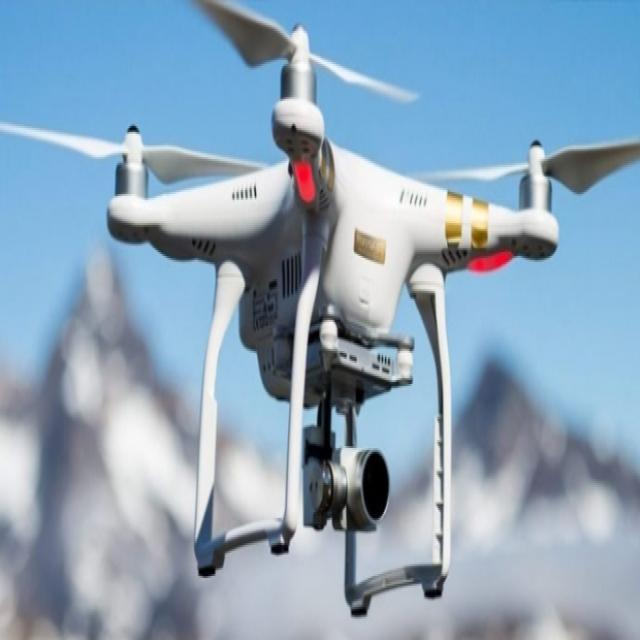drone: (44, 29, 626, 411)
